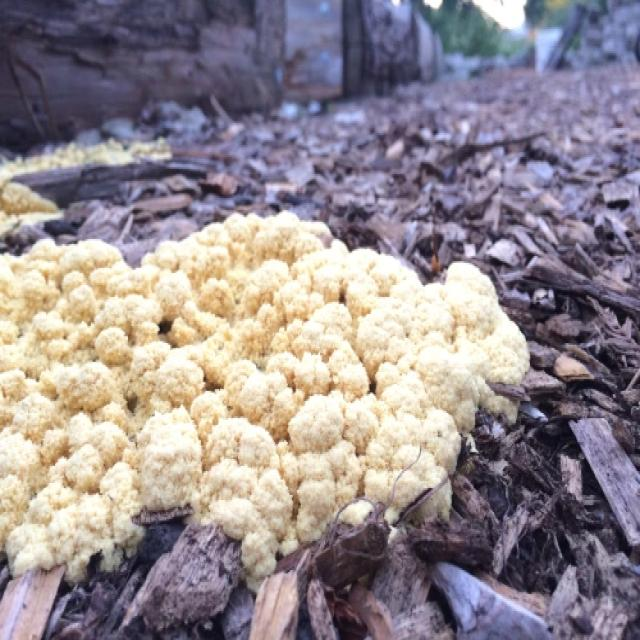Dog_vomit_slime_mold: (0, 153, 539, 536)
